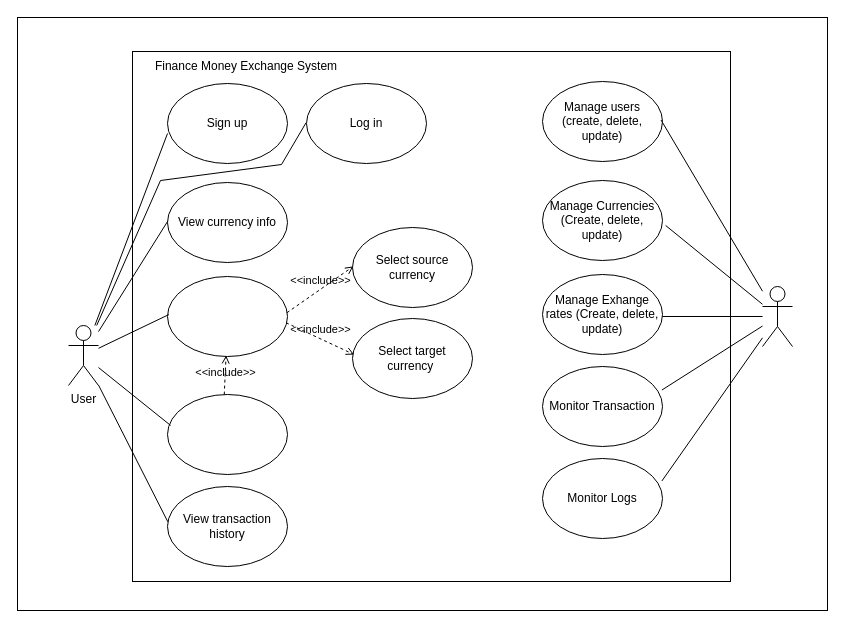
Some shapes in this 845 by 628 pixel diagram are drawn without their labels. Here are the shapes that lost their labels. From the top down, the centre of each, then its label:
the point at 227,316: View exchange rate
the point at 777,316: Admin
the point at 227,434: Create Transaction
